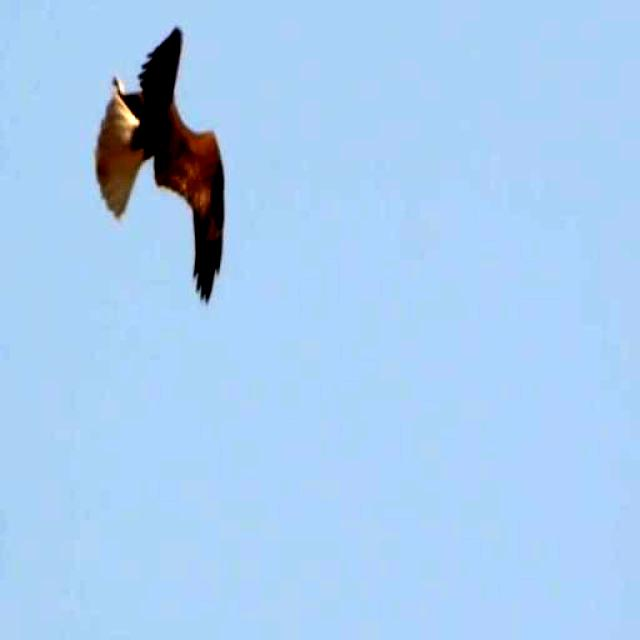airplane: (91, 16, 236, 295)
